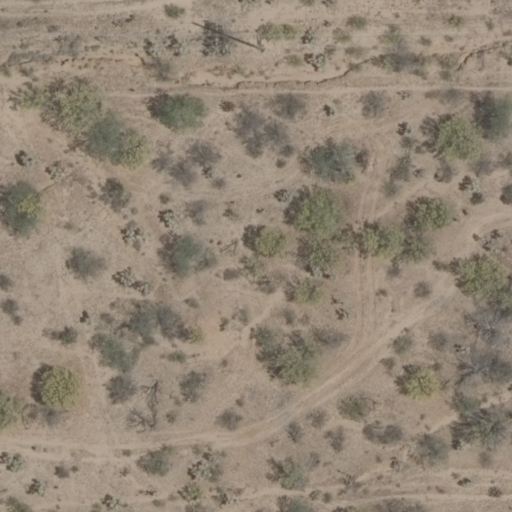DT: (243, 23, 272, 54)
